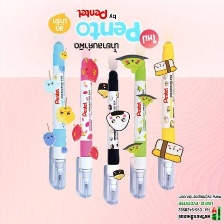correction_fluid: (46, 38, 70, 192), (155, 40, 178, 192), (73, 55, 96, 201), (128, 57, 149, 201), (101, 66, 122, 207)
